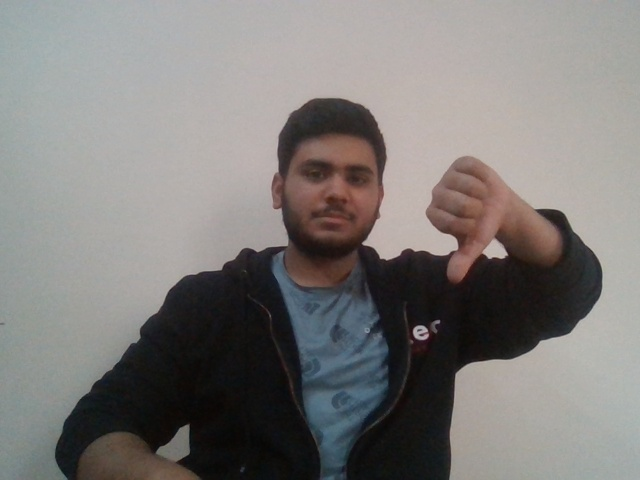No: (419, 147, 510, 284)
